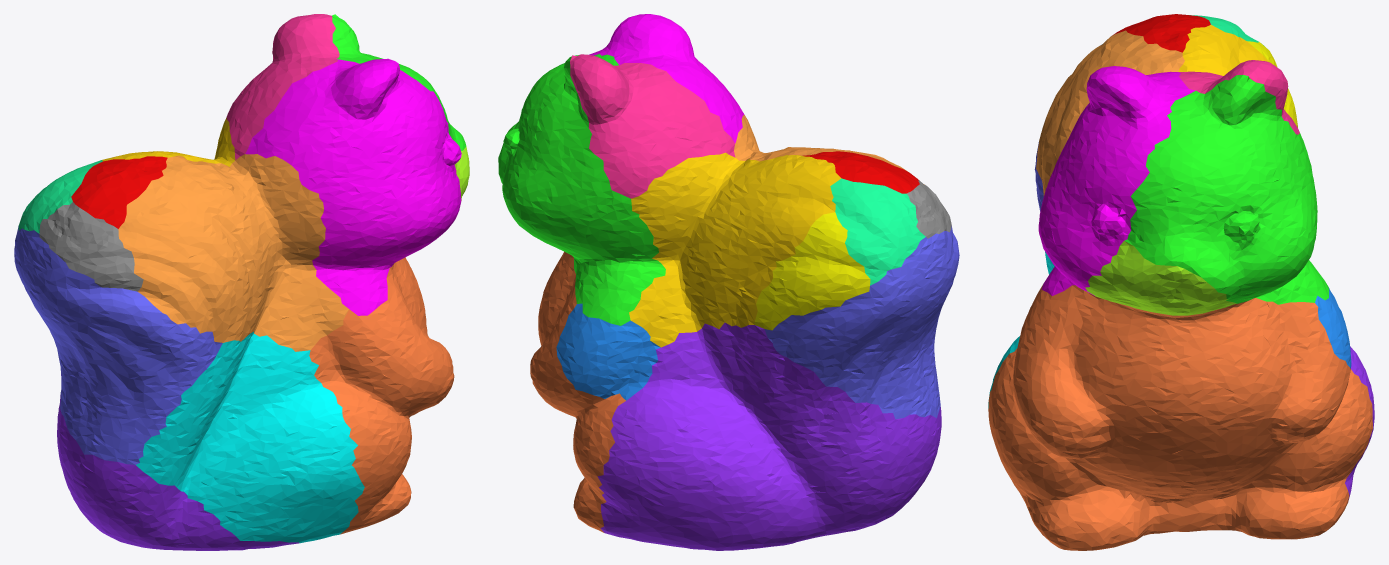
Rendered from 15(data_1.000000,_smooth_0.100000,_label_0.000000).obj.
3 renders of one model, left to right at view 1: azimuth 30°, elevation 25°; view 2: azimuth 150°, elevation 25°; view 3: azimuth 270°, elevation 25°, orthographic. The views are drawn at different scales.
Size of the model in its own units: 340 by 329 by 239.
